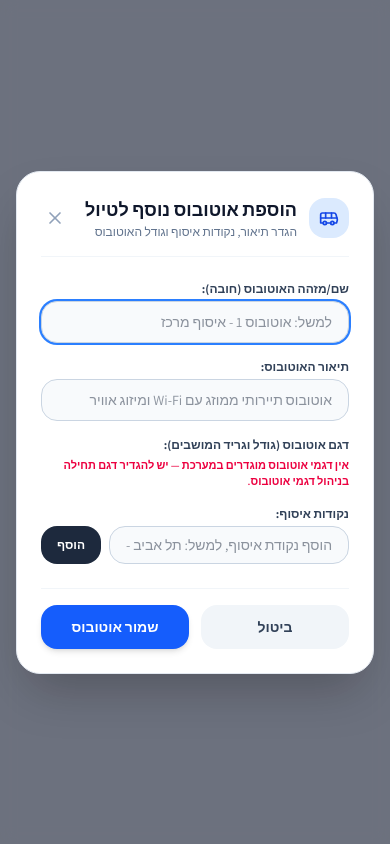
Test: BusModal › adds and removes pickup points
Type "חיפה" into the field labelled "נקודות איסוף:" at x=229, y=544, box [109,526,349,564]
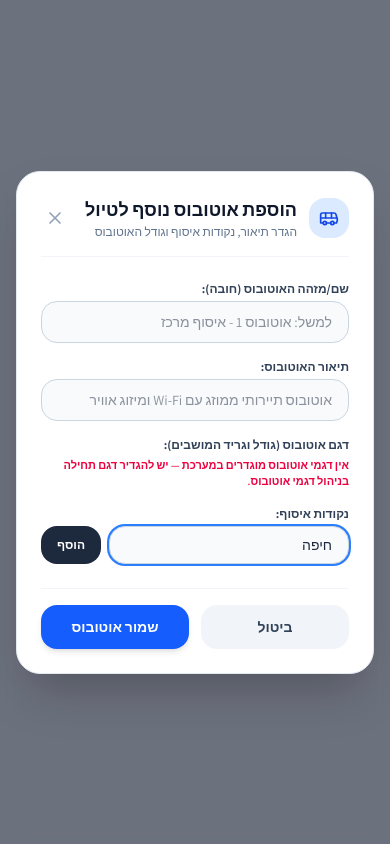
Click the button "הוסף" at x=71, y=544, box [41,526,101,564]
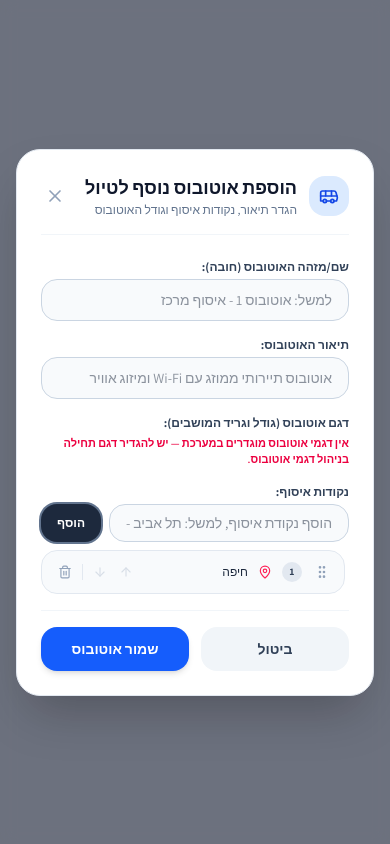
Check: the text "חיפה" is shown, box [222,564,248,580]
Click the button named "מחק את חיפה" at x=65, y=572, box [54,560,76,582]
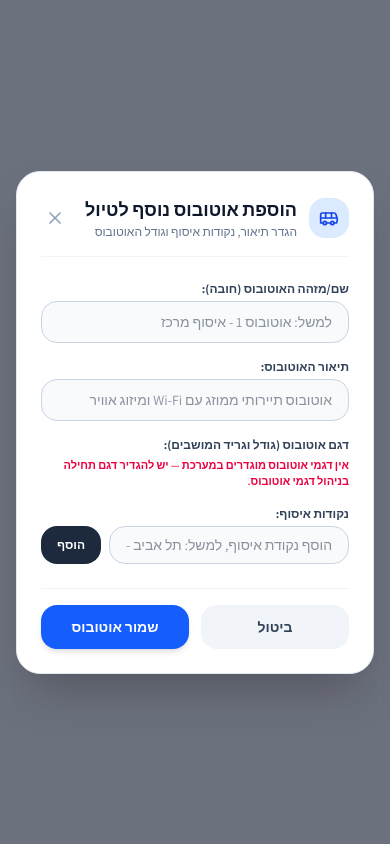
Check: the text "חיפה" is gone
